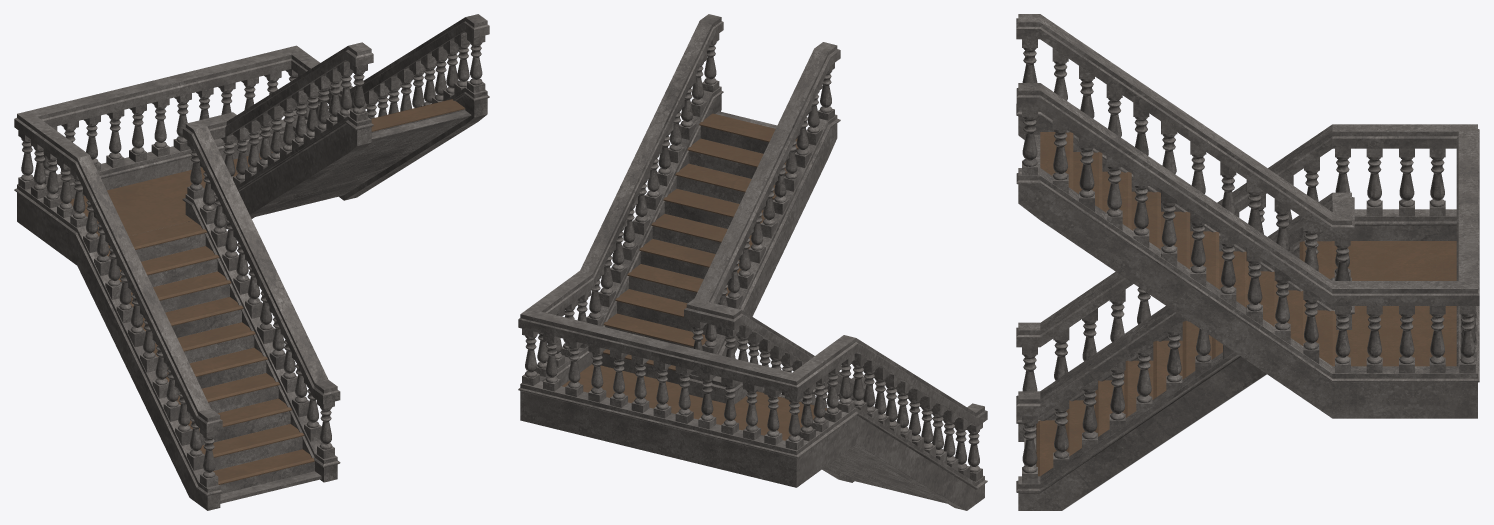
The model's file is SK6 STAIR INT.fbx.
3 views of the same model, side by side, from view 1: azimuth 30°, elevation 25°; view 2: azimuth 150°, elevation 25°; view 3: azimuth 270°, elevation 25° (orthographic). The views are drawn at different scales.
Visible parts, largest first — view 1: SK6 STAIR INT; view 2: SK6 STAIR INT; view 3: SK6 STAIR INT.
Part boxes in pixels (x1,y1,x2,y2): SK6 STAIR INT: (14, 14, 489, 510); SK6 STAIR INT: (518, 14, 987, 510); SK6 STAIR INT: (1016, 14, 1479, 510).
Size of the model in its own units: 360 by 513 by 424.
